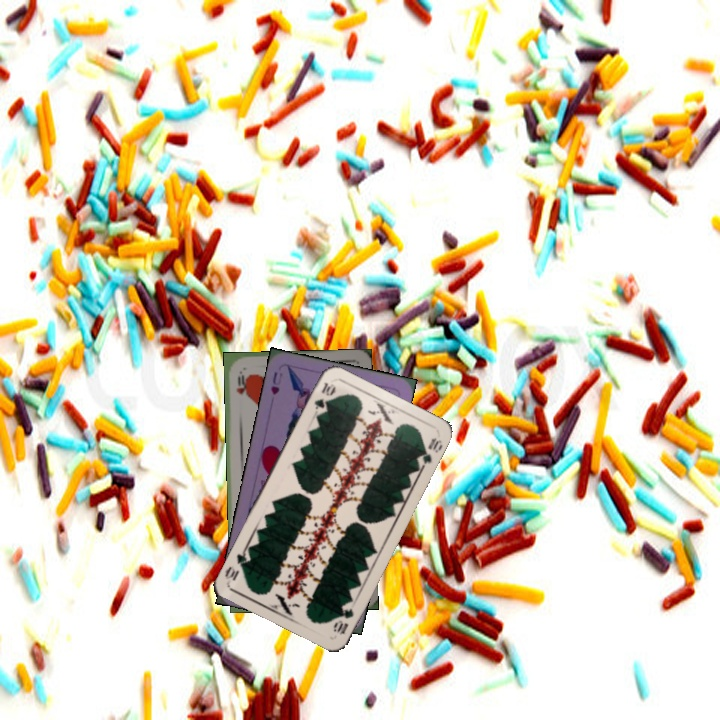G10: (310, 378, 337, 416), (329, 604, 356, 637)
HO: (232, 367, 247, 396)
HU: (267, 368, 285, 397)
